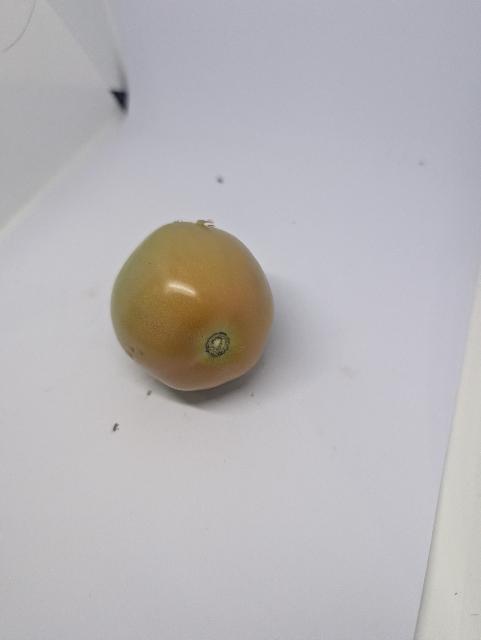breaker: (111, 220, 274, 391)
